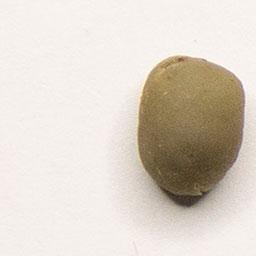peaberry: (133, 52, 247, 202)
